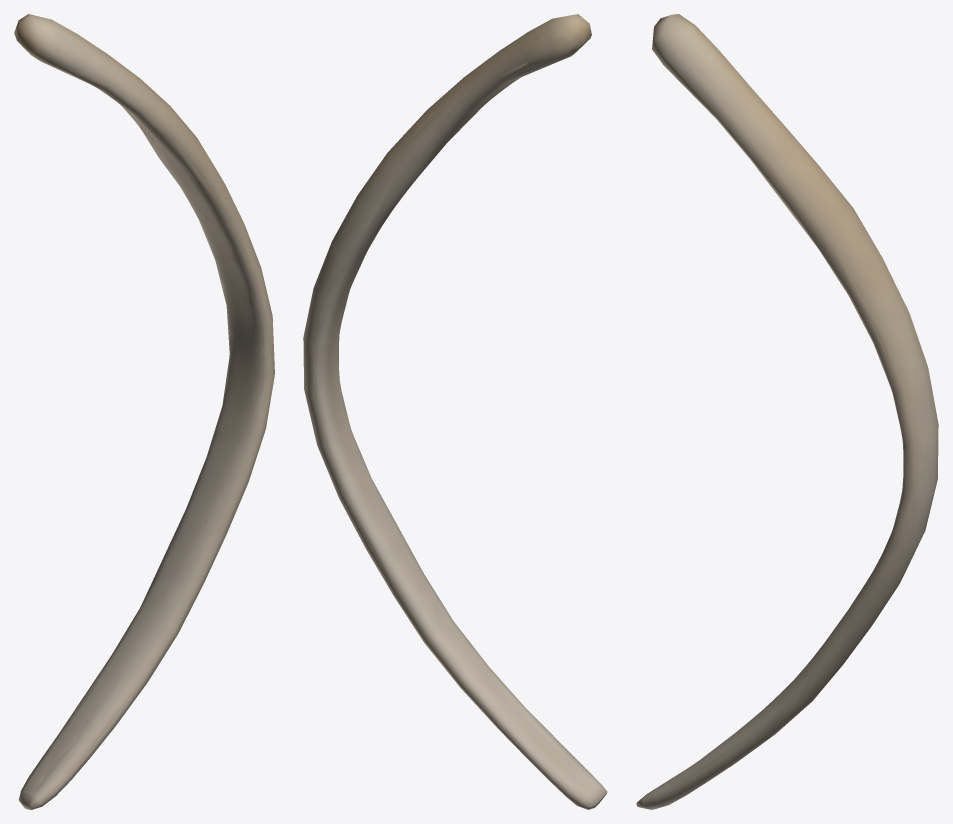
File: Rib L02.fbx
The picture shows the model from 3 angles, left to right: view 1: azimuth 30°, elevation 25°; view 2: azimuth 150°, elevation 25°; view 3: azimuth 330°, elevation 25°; orthographic projection.
Visible parts, largest first — view 1: Rib L02, Rib L02 high, Rib L02 low; view 2: Rib L02, Rib L02 high, Rib L02 low; view 3: Rib L02, Rib L02 low, Rib L02 high.
Boxes of the visible parts, x1=… form: Rib L02: x1=14, y1=14, x2=274, y2=809; Rib L02 high: x1=17, y1=28, x2=273, y2=804; Rib L02 low: x1=14, y1=15, x2=274, y2=807; Rib L02: x1=303, y1=14, x2=607, y2=809; Rib L02 high: x1=315, y1=33, x2=595, y2=799; Rib L02 low: x1=303, y1=15, x2=600, y2=807; Rib L02: x1=636, y1=14, x2=938, y2=809; Rib L02 low: x1=637, y1=16, x2=937, y2=808; Rib L02 high: x1=655, y1=53, x2=929, y2=807.
Bounding box in the file's own units: 4.21 × 11.83 × 1.34.
Materials: 1 (1 with a texture image).
